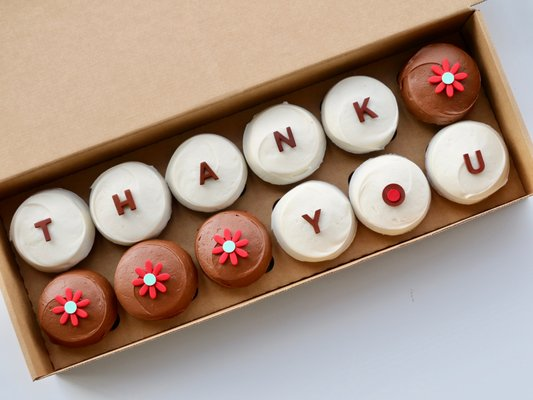salad: (9, 188, 96, 274), (424, 121, 510, 206), (88, 161, 173, 246), (242, 102, 327, 187), (113, 239, 199, 322), (271, 181, 358, 263), (398, 42, 482, 126), (348, 154, 432, 236), (165, 133, 248, 214), (36, 269, 121, 347), (194, 210, 274, 288)
